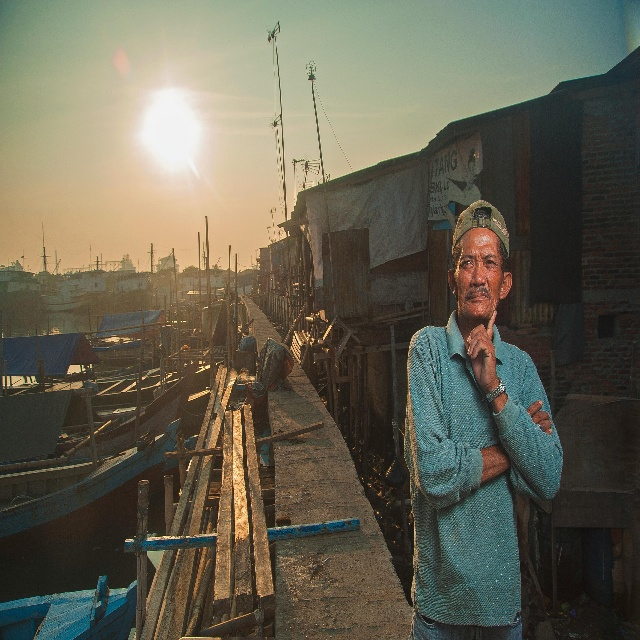Sin_guantes: (466, 309, 498, 392), (526, 399, 552, 436)
